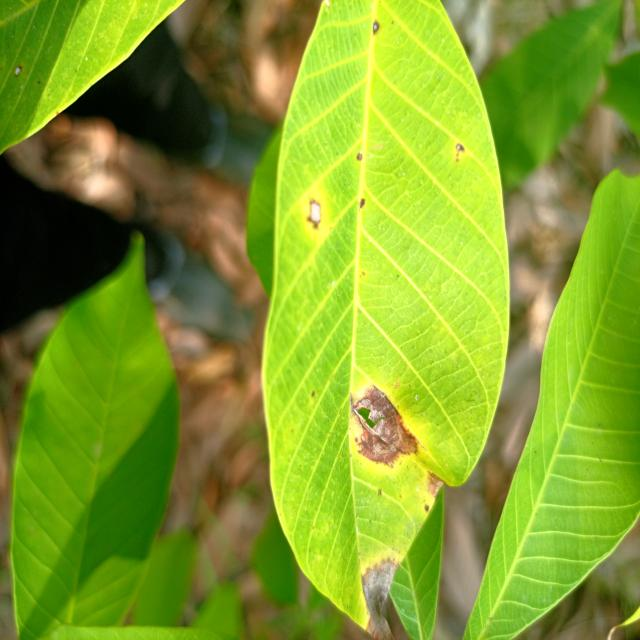Colletotrichum: (373, 22, 380, 34), (357, 153, 362, 161)
Leaf-Blight: (352, 386, 417, 466), (360, 559, 396, 640), (429, 472, 444, 499)
